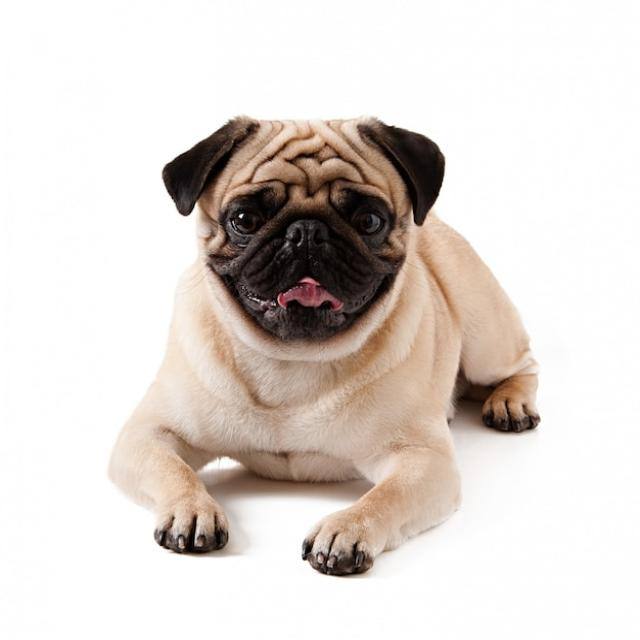Dog: (109, 118, 540, 576)
